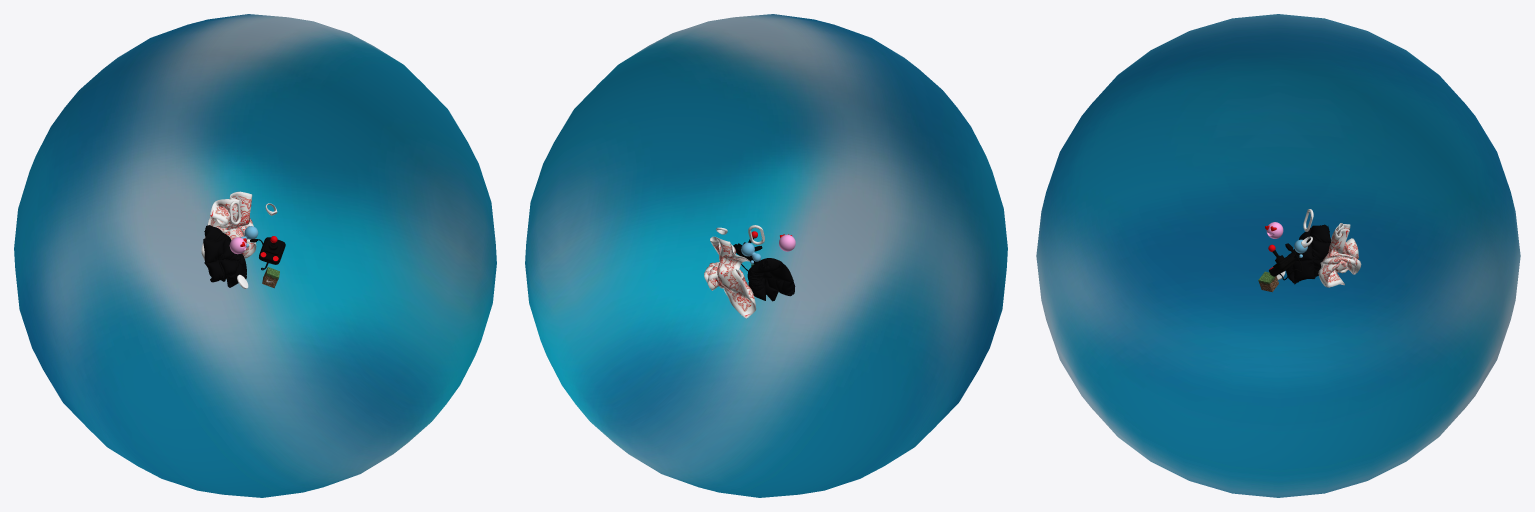
File: nike-portal.glb
3 views of the same model, side by side, from view 1: azimuth 30°, elevation 25°; view 2: azimuth 150°, elevation 25°; view 3: azimuth 270°, elevation 25° (orthographic).
Parts seen in each view (by area): view 1: bg, heart eyes.003, bandana.004, joystick; view 2: bg, heart eyes.003, bandana.004; view 3: bg, heart eyes.003, bandana.004, joystick.
Part boxes in pixels (x1=…): bg: x1=14, y1=14, x2=496, y2=497; heart eyes.003: x1=203, y1=201, x2=258, y2=287; bandana.004: x1=201, y1=191, x2=256, y2=260; joystick: x1=250, y1=236, x2=285, y2=270; bg: x1=525, y1=14, x2=1007, y2=497; heart eyes.003: x1=741, y1=225, x2=795, y2=301; bandana.004: x1=704, y1=236, x2=756, y2=318; bg: x1=1036, y1=14, x2=1520, y2=497; heart eyes.003: x1=1265, y1=209, x2=1331, y2=284; bandana.004: x1=1318, y1=223, x2=1361, y2=287; joystick: x1=1268, y1=243, x2=1302, y2=280.
Bounding box in the file's own units: 73.29 × 73.29 × 73.29.
10 materials, 4 textured.
